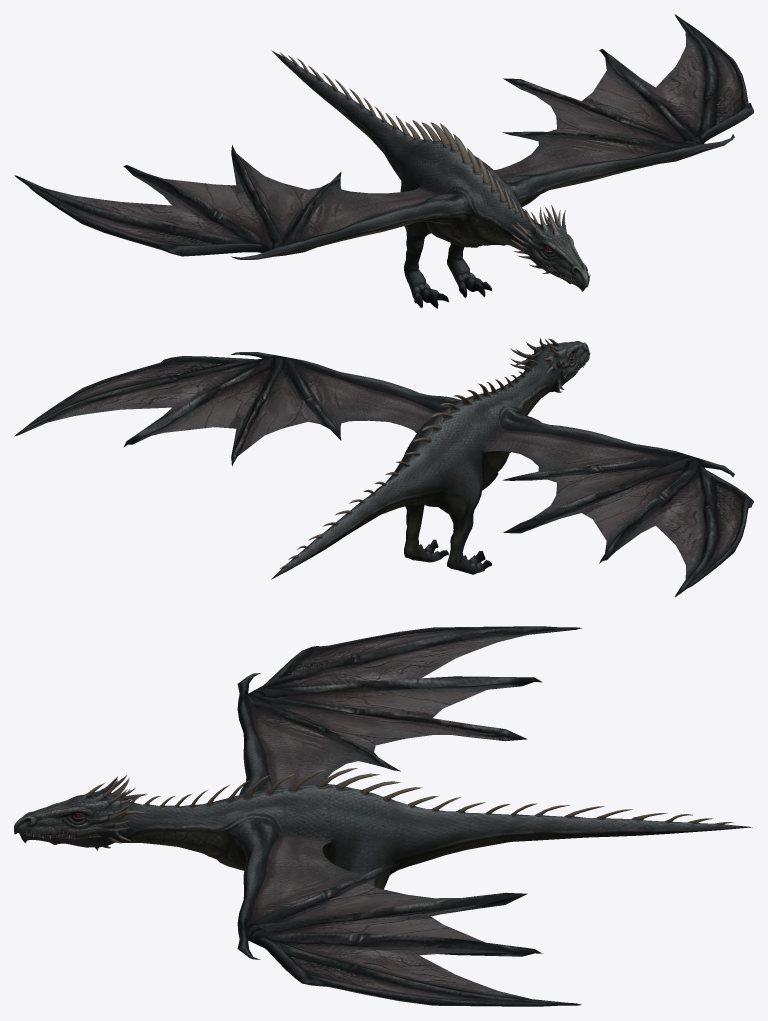
The model's file is dragon.glb.
The picture shows the model from 3 angles, top to bottom: view 1: azimuth 30°, elevation 25°; view 2: azimuth 150°, elevation 25°; view 3: azimuth 270°, elevation 25°; orthographic projection. The views are drawn at different scales.
Parts seen in each view (by area): view 1: Object_2, Object_5; view 2: Object_2, Object_5; view 3: Object_2, Object_5.
Boxes of the visible parts, x1,y1,x2,y2 form: Object_2: [14, 14, 753, 308]; Object_5: [510, 205, 590, 291]; Object_2: [14, 352, 753, 596]; Object_5: [510, 338, 590, 392]; Object_2: [126, 626, 752, 1006]; Object_5: [14, 775, 147, 850].
Size of the model in its own units: 93.3 by 22.16 by 77.23.
Materials: 3 (3 with a texture image).
